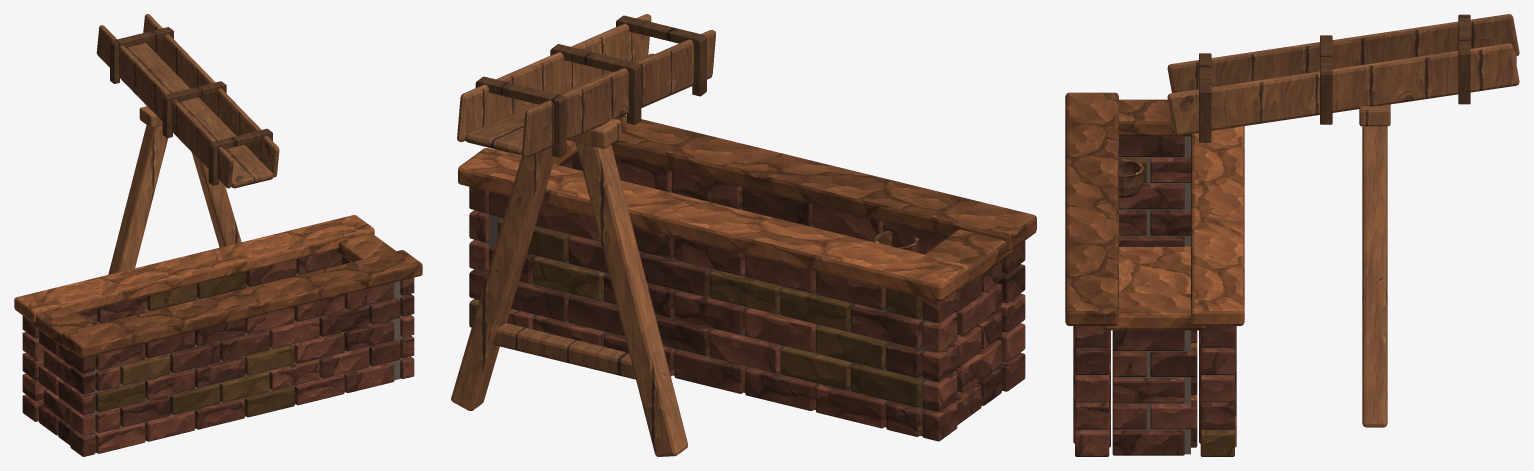
File: hw_flume_trough.glb
3 renders of one model, left to right at view 1: azimuth 30°, elevation 25°; view 2: azimuth 150°, elevation 25°; view 3: azimuth 270°, elevation 25°, orthographic. The views are drawn at different scales.
Parts seen in each view (by area): view 1: model; view 2: model; view 3: model.
Boxes of the visible parts, box(x1,y1,x2,y2) form: model: box(14, 14, 422, 456); model: box(451, 14, 1036, 456); model: box(1065, 14, 1519, 456).
Size of the model in its own units: 1.65 by 1.24 by 1.45.
16 materials, 15 textured.
